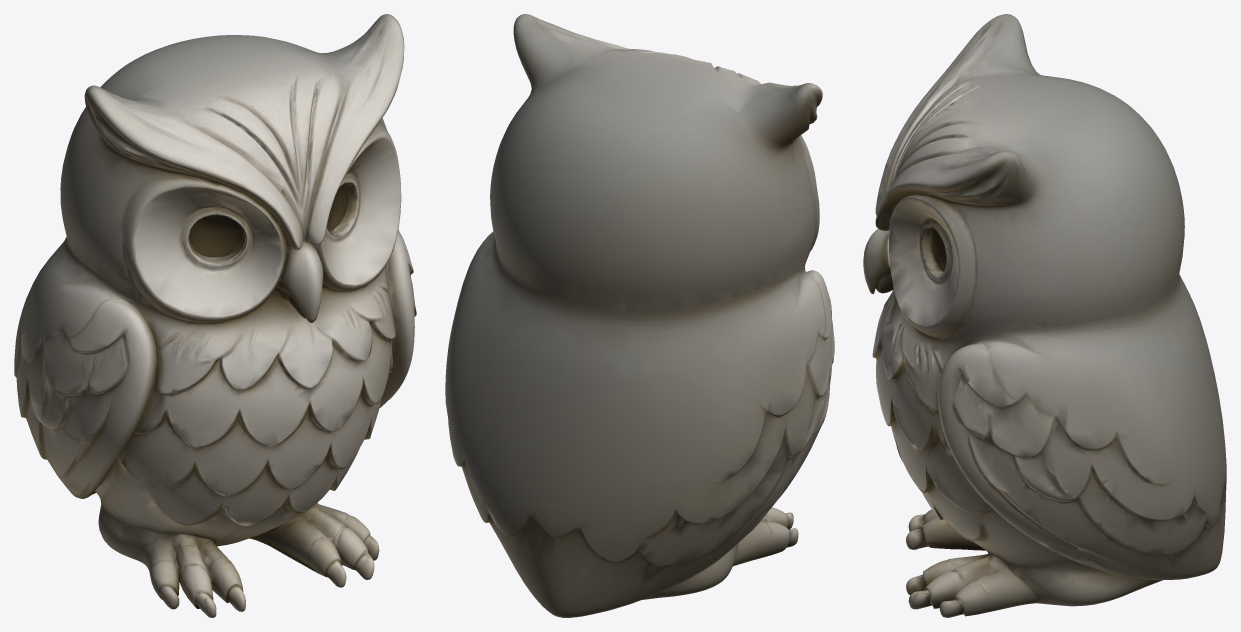
3 views of the same model, side by side, from view 1: azimuth 30°, elevation 25°; view 2: azimuth 150°, elevation 25°; view 3: azimuth 270°, elevation 25° (orthographic). The views are drawn at different scales.
Visible parts, largest first — view 1: node_0; view 2: node_0; view 3: node_0.
Boxes of the visible parts, x1,y1,x2,y2 form: node_0: (14, 14, 416, 617); node_0: (445, 14, 834, 617); node_0: (863, 14, 1226, 617).
Size of the model in its own units: 0.7331 by 1.02 by 0.6851.
1 material, 1 textured.
